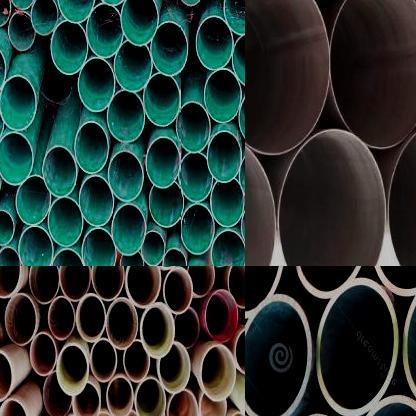pipe: (273, 125, 388, 266), (245, 0, 332, 158), (327, 0, 416, 148), (315, 278, 398, 416), (245, 294, 311, 416), (384, 120, 416, 266), (293, 266, 370, 298), (204, 67, 242, 124), (195, 15, 234, 70), (143, 72, 181, 128), (78, 57, 116, 112), (150, 21, 188, 76), (50, 21, 88, 76), (86, 3, 124, 58), (113, 40, 153, 92), (245, 266, 285, 318), (0, 75, 37, 131), (140, 302, 175, 359), (107, 90, 145, 142), (201, 344, 236, 400), (206, 130, 242, 184), (145, 136, 181, 188), (108, 150, 144, 202), (204, 289, 238, 344), (42, 145, 77, 198), (74, 121, 109, 174), (111, 204, 146, 257), (0, 131, 34, 185), (176, 100, 210, 154), (48, 196, 84, 247), (16, 174, 51, 226), (78, 176, 114, 226), (178, 152, 213, 203), (180, 203, 214, 255), (210, 178, 245, 228), (5, 292, 38, 345), (120, 0, 158, 46), (106, 297, 138, 350), (56, 343, 88, 395), (158, 342, 191, 392), (149, 181, 184, 228), (125, 266, 161, 308), (18, 226, 54, 266), (76, 294, 106, 342), (163, 267, 193, 315), (81, 227, 116, 266), (42, 370, 71, 416), (134, 376, 166, 416), (90, 338, 118, 383), (30, 332, 58, 377), (211, 229, 245, 266), (123, 338, 150, 384), (48, 296, 75, 340), (7, 11, 36, 51), (91, 266, 124, 301), (59, 266, 91, 302), (174, 306, 200, 350), (29, 266, 59, 304), (106, 374, 133, 416), (72, 380, 101, 416), (30, 0, 58, 35), (56, 0, 95, 24), (140, 231, 166, 266), (187, 266, 215, 296), (167, 389, 198, 416), (223, 0, 245, 36), (231, 32, 245, 87), (228, 266, 245, 308), (199, 391, 227, 416), (0, 349, 13, 402), (0, 266, 20, 298), (51, 248, 86, 266), (0, 397, 29, 416), (234, 326, 245, 374), (0, 209, 14, 246), (161, 246, 186, 266), (119, 251, 145, 266), (0, 247, 20, 266), (0, 0, 11, 27), (8, 0, 36, 10)
